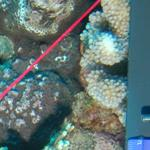alive: (8, 6, 145, 147)
